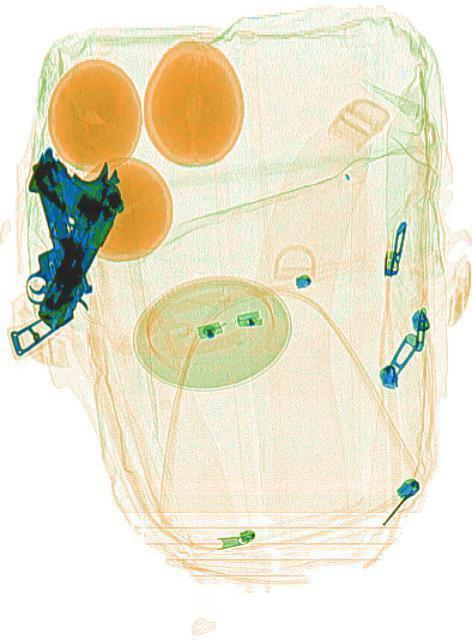Gun: (0, 130, 134, 330), (0, 144, 96, 338)
